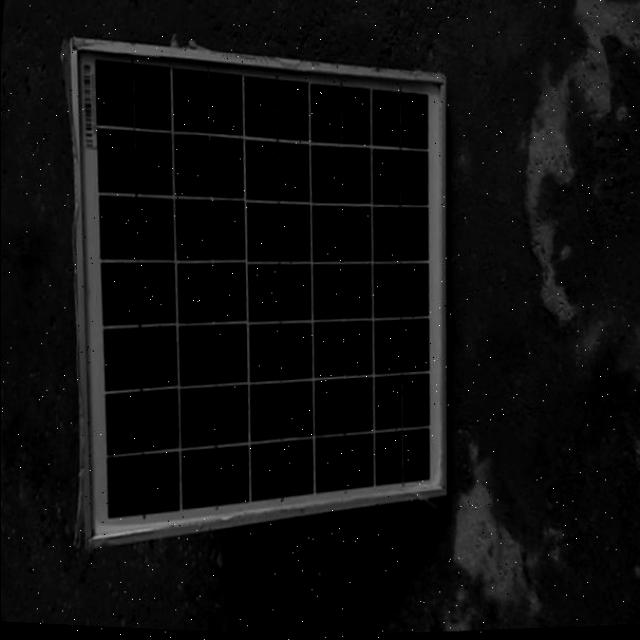Normal Solar Panel: (32, 12, 482, 573)
